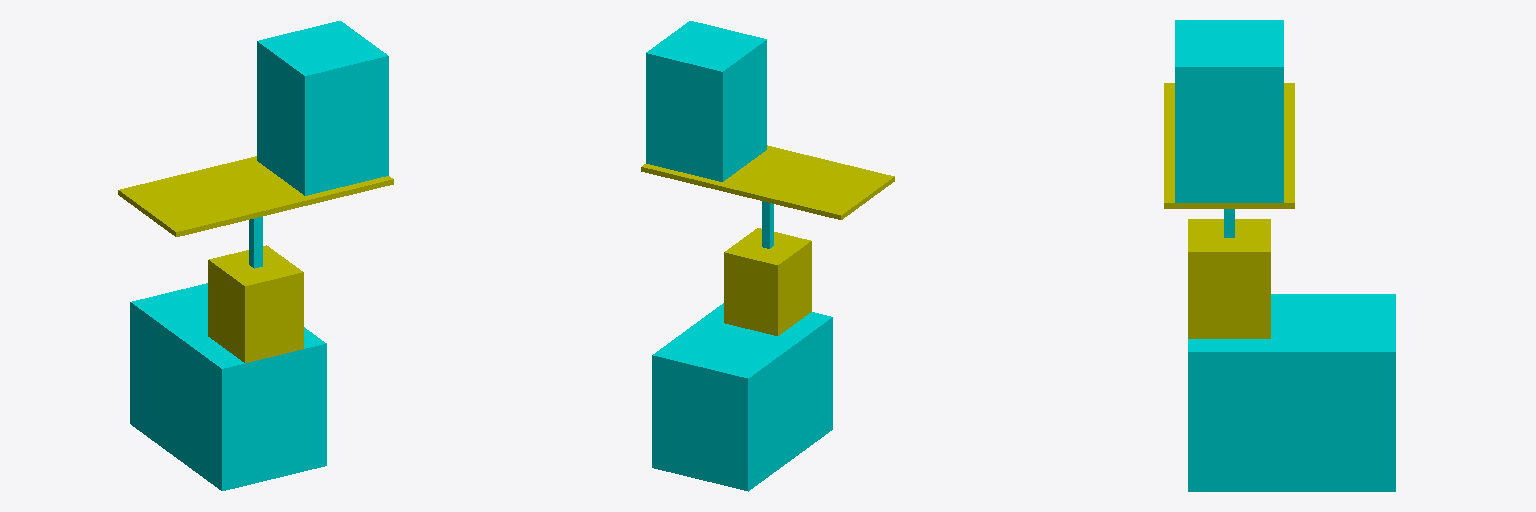
robot.urdf — tama:
<?xml version="1.0" ?>
<!-- =================================================================================== -->
<!-- |    This document was autogenerated by xacro from [local-path]/hokuyo_repo/hokuyo_plus/ros/denemeler_urdf/hokuyo_plus.xacro | -->
<!-- |    EDITING THIS FILE BY HAND IS NOT RECOMMENDED                                 | -->
<!-- =================================================================================== -->
<robot name="tama">
    <!-- * * * Link Definitions * * * -->
    <link name="world" />
    <link name="taban">
        <visual>
            <origin rpy="0 0 0" xyz="0 0 0.035" />
            <geometry>
                <box size="0.0625 0.095 0.07" />
            </geometry>
            <material name="Cyan1">
                <color rgba="0 0.9 0.9 1.0" />
            </material>
        </visual>
        <inertial>
            <mass value="1" />
            <origin rpy="0 0 0" xyz="0 0 0" />
            <inertia ixx="1e-6" ixy="0" ixz="0" iyy="1e-6" iyz="0" izz="1e-6" />
        </inertial>
    </link>
    <link name="pan_direk">
        <visual>
            <origin rpy="0 0 0" xyz="0 0 0" />
            <geometry>
                <box size="0.035 0.038 0.044" />
            </geometry>
            <material name="Yellow2">
                <color rgba="0.8 0.8 0 1.0" />
            </material>
        </visual>
        <inertial>
            <mass value="0.50" />
            <origin rpy="0 0 0" xyz="0 0 0" />
            <inertia ixx="1e-6" ixy="0" ixz="0" iyy="1e-6" iyz="0" izz="1e-6" />
        </inertial>
    </link>
    <link name="tilt_direk">
        <visual>
            <origin rpy="0 -1.57 0" xyz="-0.022 0 0" />
            <geometry>
                <box size="0.005 0.005 0.044" />
            </geometry>
            <material name="Cyan1">
                <color rgba="0 0.9 0.9 1.0" />
            </material>
        </visual>
        <inertial>
            <mass value="0.20" />
            <origin rpy="0 0 0" xyz="0 0 0" />
            <inertia ixx="1e-6" ixy="0" ixz="0" iyy="1e-6" iyz="0" izz="1e-6" />
        </inertial>
    </link>
    <link name="hokuyo_taban">
        <visual>
            <origin rpy="0 -1.57 0" xyz="0 0 0" />
            <geometry>
                <box size="0.13 0.06 0.003 " />
            </geometry>
            <material name="Yellow2">
                <color rgba="0.8 0.8 0 1.0" />
            </material>
        </visual>
        <inertial>
            <mass value="0.10" />
            <origin rpy="0 0 0" xyz="0 0 0" />
            <inertia ixx="1e-6" ixy="0" ixz="0" iyy="1e-6" iyz="0" izz="1e-6" />
        </inertial>
    </link>
    <link name="hokuyo_link">
        <collision>
            <origin rpy="0 0 0" xyz="0 0 -0.05" />
            <geometry>
                <box size="0.1 0.1 0.08" />
            </geometry>
        </collision>
        <visual>
            <origin rpy="0 0 0" xyz="-0.035 0 0" />
            <geometry>
                <box size="0.07 0.05 0.05" />
            </geometry>
            <material name="Cyan1">
                <color rgba="0 0.9 0.9 1.0" />
            </material>
        </visual>
        <inertial>
            <mass value="1e-5" />
            <origin rpy="0 0 0" xyz="0 0 0" />
            <inertia ixx="1e-6" ixy="0" ixz="0" iyy="1e-6" iyz="0" izz="1e-6" />
        </inertial>
    </link>
    <joint name="virtual_joint" type="fixed">
        <parent link="world" />
        <child link="taban" />
        &gt;
        <origin rpy="0 0 0" xyz="0 0 0" />
        <dynamics damping="1.0" />
    </joint>
    <joint name="pan_joint" type="revolute">
        <parent link="taban" />
        <child link="pan_direk" />
        <origin rpy="0 0 0" xyz="0 -0.0285 0.092" />
        <dynamics damping="1.0" />
        <axis xyz="0 0 1" />
        <limit effort="10" lower="-3.1416" upper="3.1416" velocity="3" />
    </joint>
    <joint name="tilt_joint" type="revolute">
        <parent link="pan_direk" />
        <child link="tilt_direk" />
        <origin rpy="0 1.57 0" xyz="0 0 0.022" />
        <axis xyz="0 0 1" />
        <limit effort="10" lower="-0.8727" upper="0.8727" velocity="3" />
        <dynamics damping="1.0" />
    </joint>
    <joint name="hokuyo_base_joint" type="fixed">
        <parent link="tilt_direk" />
        <child link="hokuyo_taban" />
        <origin rpy="0 0 0" xyz="-0.0450 0 0" />
        <dynamics damping="1.0" />
    </joint>
    <joint name="hokuyo_joint" type="fixed">
        <origin rpy="0 0 0" xyz="0 0 0.04" />
        <parent link="hokuyo_taban" />
        <child link="hokuyo_link" />
        <dynamics damping="1.0" />
    </joint>
    <gazebo reference="taban">
                <material>Gazebo/Orange</material>
                	
        </gazebo>
        
        <gazebo reference="pan_direk">
                <material>Gazebo/Blue</material>
                
        </gazebo>
        
        <gazebo reference="tilt_direk">
                <material>Gazebo/White</material>
        </gazebo>
        
        <gazebo reference="hokuyo_taban">
                <material>Gazebo/Orange</material>
        </gazebo>
    <!-- gazebo reference for hokuyo-->
    <gazebo reference="hokuyo_link">
        <sensor name="hokuyo_sensor" type="gpu_ray">
            <pose>0 0 0 0 0 0</pose>
            <!--visualize>${visualize}</visualize-->
            <update_rate>10</update_rate>
            <ray>
                <scan>
                    <horizontal>
                        <samples>640</samples>
                        <resolution>1</resolution>
                        <min_angle>-1.57</min_angle>
                        <max_angle>1.57</max_angle>
                    </horizontal>
                </scan>
                <range>
                    <min>0.02</min>
                    <max>4.0</max>
                    <resolution>0.00628318531</resolution>
                </range>
                <noise>
                    <type>gaussian</type>
                    <mean>0.0</mean>
                    <stddev>0.01</stddev>
                </noise>
            </ray>
            <plugin filename="libgazebo_ros_gpu_laser.so" name="body_controller">
                <topicName>hokuyo/scan</topicName>
                <frameName>hokuyo_link</frameName>
            </plugin>
        </sensor>
	<plugin name="gazebo_ros_control" filename="libgazebo_ros_control.so">
  	</plugin>
    </gazebo>
    <transmission name="trans_pan_joint">
        <type>transmission_interface/SimpleTransmission</type>
        <joint name="pan_joint">
            <hardwareInterface>hardware_interface/EffortJointInterface</hardwareInterface>
        </joint>
        <actuator name="pan_joint_motor">
            <hardwareInterface>hardware_interface/EffortJointInterface</hardwareInterface>
            <mechanicalReduction>1</mechanicalReduction>
        </actuator>
    </transmission>
    <transmission name="trans_tilt_joint">
        <type>transmission_interface/SimpleTransmission</type>
        <joint name="tilt_joint">
            <hardwareInterface>hardware_interface/EffortJointInterface</hardwareInterface>
        </joint>
        <actuator name="tilt_joint_motor">
            <hardwareInterface>hardware_interface/EffortJointInterface</hardwareInterface>
            <mechanicalReduction>1</mechanicalReduction>
        </actuator>
    </transmission>
    <gazebo>
            <plugin name="gazebo_ros_control" filename="libgazebo_ros_control.so"/>
     </gazebo>
</robot>

--- What the picture shows (computed from the rendered views, not written in the file) ---
Views: 3 orthographic renders of the robot side by side, from view 1: azimuth 30°, elevation 25°; view 2: azimuth 150°, elevation 25°; view 3: azimuth 270°, elevation 25°.
Robot: tama — 6 links, 5 joints (2 revolute, 3 fixed); root link world; default pose: all joints at 0.
Visible links, largest first — view 1: taban, hokuyo_link, hokuyo_taban, pan_direk, tilt_direk; view 2: taban, hokuyo_link, hokuyo_taban, pan_direk, tilt_direk; view 3: taban, hokuyo_link, pan_direk, hokuyo_taban.
Boxes of the visible links, box(x1,y1,x2,y2) form: taban: box(130, 283, 326, 490); hokuyo_link: box(257, 21, 388, 195); hokuyo_taban: box(118, 156, 393, 236); pan_direk: box(208, 245, 303, 362); tilt_direk: box(249, 216, 262, 268); taban: box(652, 303, 832, 491); hokuyo_link: box(646, 21, 766, 181); hokuyo_taban: box(641, 145, 894, 219); pan_direk: box(724, 228, 811, 335); tilt_direk: box(762, 201, 773, 248); taban: box(1188, 294, 1395, 491); hokuyo_link: box(1175, 20, 1283, 202); pan_direk: box(1188, 219, 1270, 338); hokuyo_taban: box(1164, 83, 1294, 208).
Bounding box of the posed robot: 0.13 × 0.106 × 0.2291 m (x, y, z).
Geometry: primitives only (box / cylinder / sphere), no mesh files.
